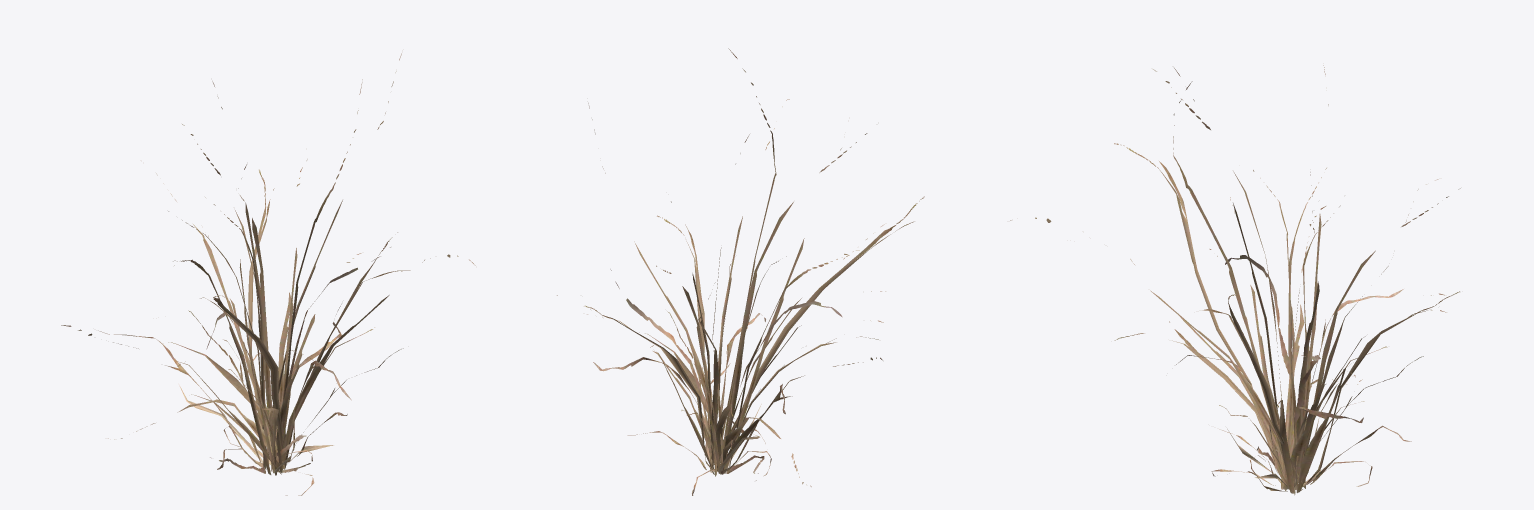
Rendered from erba.glb.
3 views of the same model, side by side, from view 1: azimuth 30°, elevation 25°; view 2: azimuth 150°, elevation 25°; view 3: azimuth 270°, elevation 25° (orthographic). The views are drawn at different scales.
Parts seen in each view (by area): view 1: grass_medium_02_e; view 2: grass_medium_02_e; view 3: grass_medium_02_e.
Part boxes in pixels (x1,y1,x2,y2): grass_medium_02_e: (61, 53, 475, 495); grass_medium_02_e: (557, 48, 924, 495); grass_medium_02_e: (1010, 65, 1460, 495).
Size of the model in its own units: 0.3543 by 0.4026 by 0.4326.
Materials: 1 (1 with a texture image).
